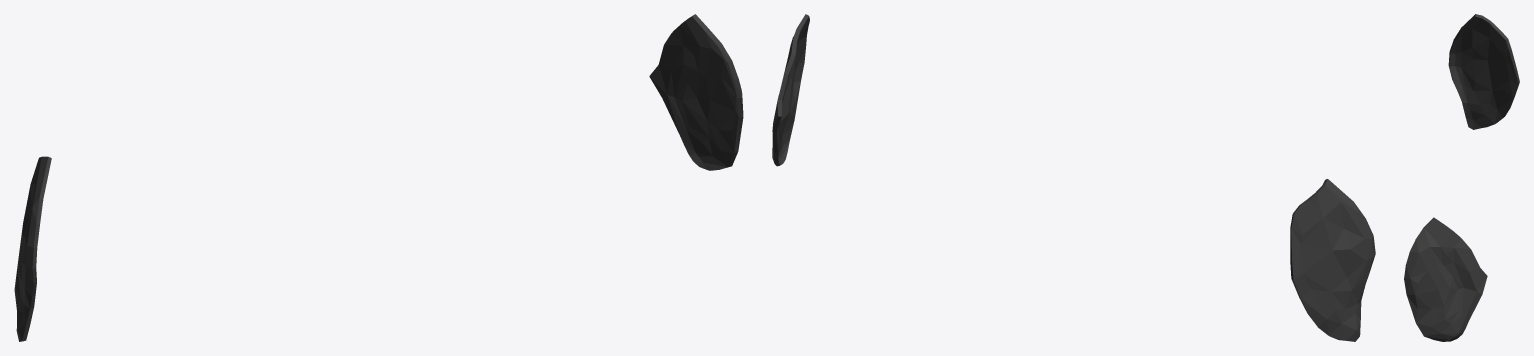
Rendered from t6_costal_fovea_transverse_process.glb.
The picture shows the model from 3 angles, left to right: view 1: azimuth 30°, elevation 25°; view 2: azimuth 150°, elevation 25°; view 3: azimuth 270°, elevation 25°; orthographic projection. The views are drawn at different scales.
Visible parts, largest first — view 1: t6_costal_fovea_transverse_process; view 2: t6_costal_fovea_transverse_process; view 3: t6_costal_fovea_transverse_process.
Part boxes in pixels (x1=…): t6_costal_fovea_transverse_process: x1=14, y1=14, x2=743, y2=341; t6_costal_fovea_transverse_process: x1=772, y1=14, x2=1375, y2=341; t6_costal_fovea_transverse_process: x1=1404, y1=14, x2=1519, y2=341.
Size of the model in its own units: 36.38 by 9.64 by 7.52.
Materials: 1 (1 with a texture image).
